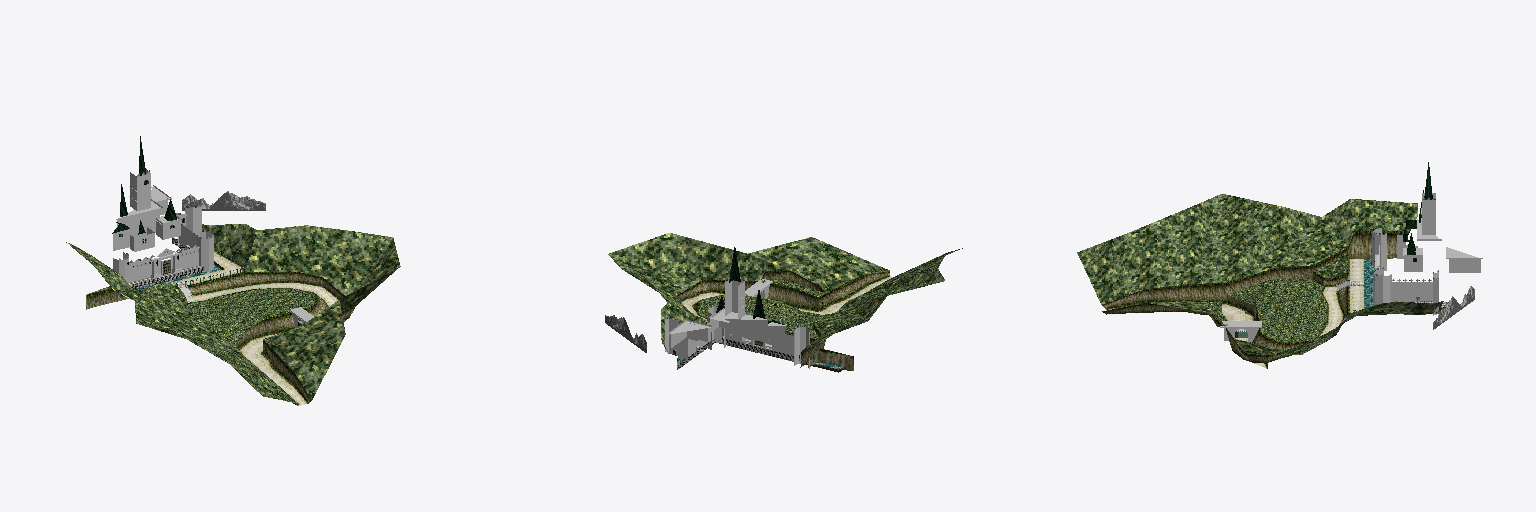
The picture shows the model from 3 angles: view 1: azimuth 30°, elevation 25°; view 2: azimuth 150°, elevation 25°; view 3: azimuth 270°, elevation 25°; orthographic projection.
Parts seen in each view (by area): view 1: Castle__Grass#SFX_2#ShiftS02#ShiftT02#MultiShiftS-2#MultiShiftT-, Castle__CastleBrick#SFX_2, Castle__Cliff#SFX_2, Castle__Path#SFX_2, Castle__mountainbackdrop#SFX_2, Castle__Spires#SFX_2; view 2: Castle__Grass#SFX_2#ShiftS02#ShiftT02#MultiShiftS-2#MultiShiftT-, Castle__CastleBrick#SFX_2, Castle__Cliff#SFX_2, Castle__Path#SFX_2, Castle__CastleBrick2#SFX_2, Castle__Black#SFX_2, Castle__mountainbackdrop#SFX_2; view 3: Castle__Grass#SFX_2#ShiftS02#ShiftT02#MultiShiftS-2#MultiShiftT-, Castle__Cliff#SFX_2, Castle__CastleBrick#SFX_2, Castle__Path#SFX_2, Castle__mountainbackdrop#SFX_2.
Boxes of the visible parts, box(x1,y1,x2,y2) form: Castle__Grass#SFX_2#ShiftS02#ShiftT02#MultiShiftS-2#MultiShiftT-: box(66, 224, 400, 403); Castle__CastleBrick#SFX_2: box(113, 171, 313, 327); Castle__Cliff#SFX_2: box(86, 238, 355, 405); Castle__Path#SFX_2: box(122, 248, 338, 405); Castle__mountainbackdrop#SFX_2: box(182, 191, 265, 210); Castle__Spires#SFX_2: box(112, 136, 186, 283); Castle__Grass#SFX_2#ShiftS02#ShiftT02#MultiShiftS-2#MultiShiftT-: box(608, 233, 962, 353); Castle__CastleBrick#SFX_2: box(665, 279, 809, 368); Castle__Cliff#SFX_2: box(677, 270, 889, 370); Castle__Path#SFX_2: box(681, 276, 892, 319); Castle__CastleBrick2#SFX_2: box(677, 336, 799, 369); Castle__Black#SFX_2: box(668, 295, 785, 351); Castle__mountainbackdrop#SFX_2: box(605, 315, 646, 352); Castle__Grass#SFX_2#ShiftS02#ShiftT02#MultiShiftS-2#MultiShiftT-: box(1077, 194, 1443, 354); Castle__Cliff#SFX_2: box(1102, 230, 1445, 368); Castle__CastleBrick#SFX_2: box(1220, 193, 1482, 342); Castle__Path#SFX_2: box(1106, 259, 1364, 368); Castle__mountainbackdrop#SFX_2: box(1433, 286, 1474, 329).
Bounding box in the file's own units: 628 × 307 × 742.
43 materials, 36 textured.